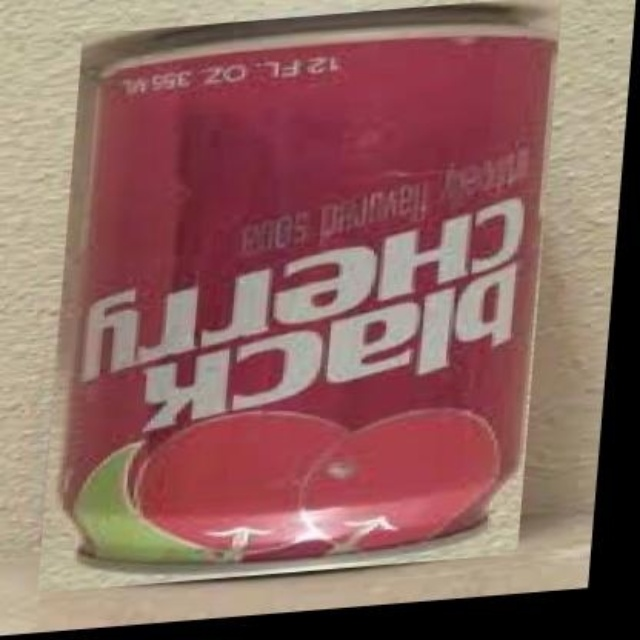trash: (60, 3, 554, 565)
